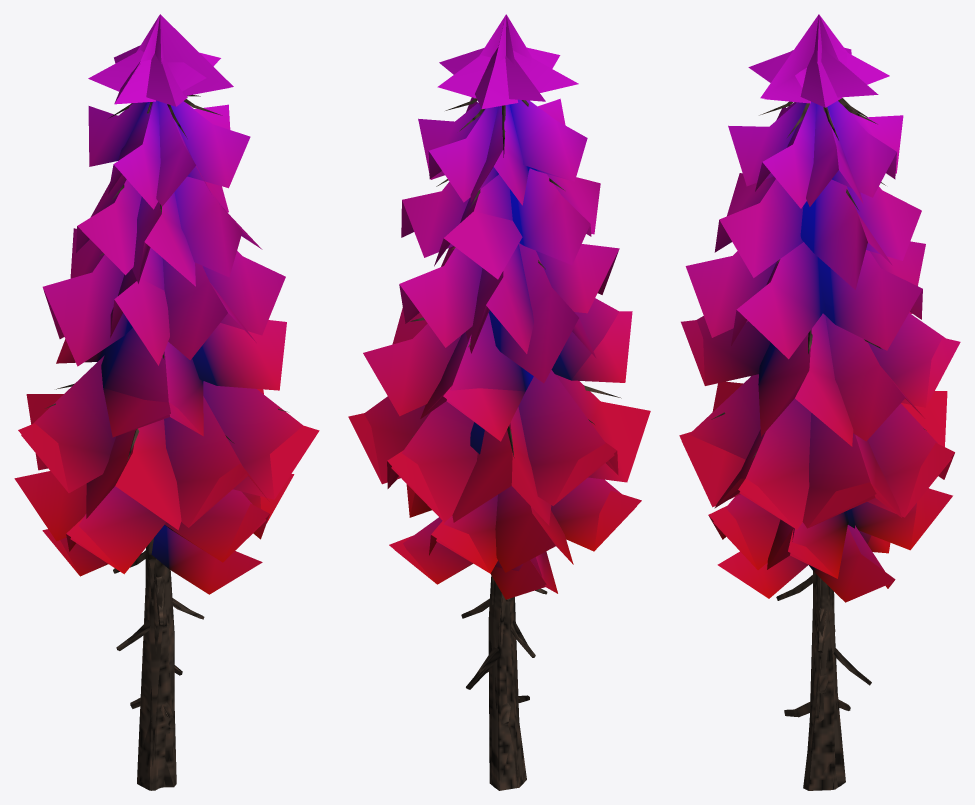
File: TreeB.fbx
The picture shows the model from 3 angles, left to right: view 1: azimuth 30°, elevation 25°; view 2: azimuth 150°, elevation 25°; view 3: azimuth 270°, elevation 25°; orthographic projection.
Parts seen in each view (by area): view 1: TreeB, TreeBLowPoly, DeadTreeB, DeadTreeBLowPoly; view 2: TreeB, TreeBLowPoly, DeadTreeB, DeadTreeBLowPoly; view 3: TreeB, TreeBLowPoly, DeadTreeBLowPoly, DeadTreeB.
Boxes of the visible parts, x1,y1,x2,y2 form: TreeB: (14,14,319,790); TreeBLowPoly: (21,14,303,788); DeadTreeB: (45,94,288,790); DeadTreeBLowPoly: (138,570,181,790); TreeB: (348,14,650,790); TreeBLowPoly: (364,47,636,790); DeadTreeB: (408,98,621,790); DeadTreeBLowPoly: (472,105,519,788); TreeB: (679,14,960,790); TreeBLowPoly: (681,14,951,782); DeadTreeBLowPoly: (797,99,869,790); DeadTreeB: (711,98,926,790).
Size of the model in its own units: 5.46 by 15.62 by 5.17.
